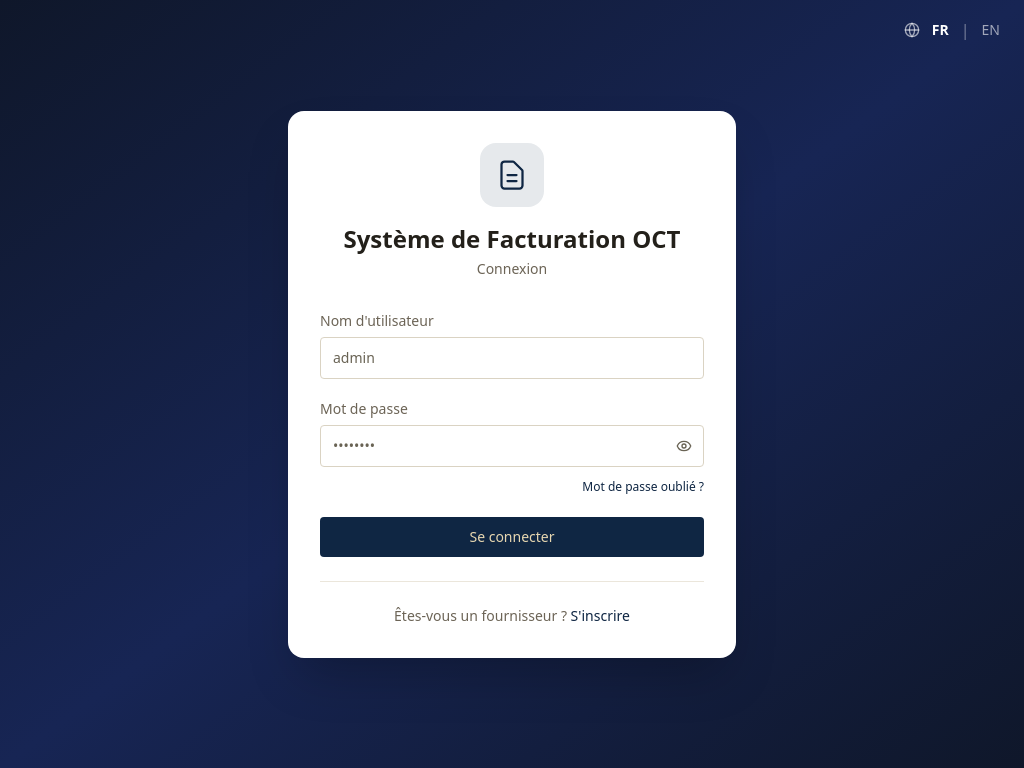
Test case: AUDIT-035 — login error messages › still shows "wrong credentials" on a real 401
Type "aa" into the field labelled "Nom d'utilisateur" at (512, 358), box [320,336,704,378]
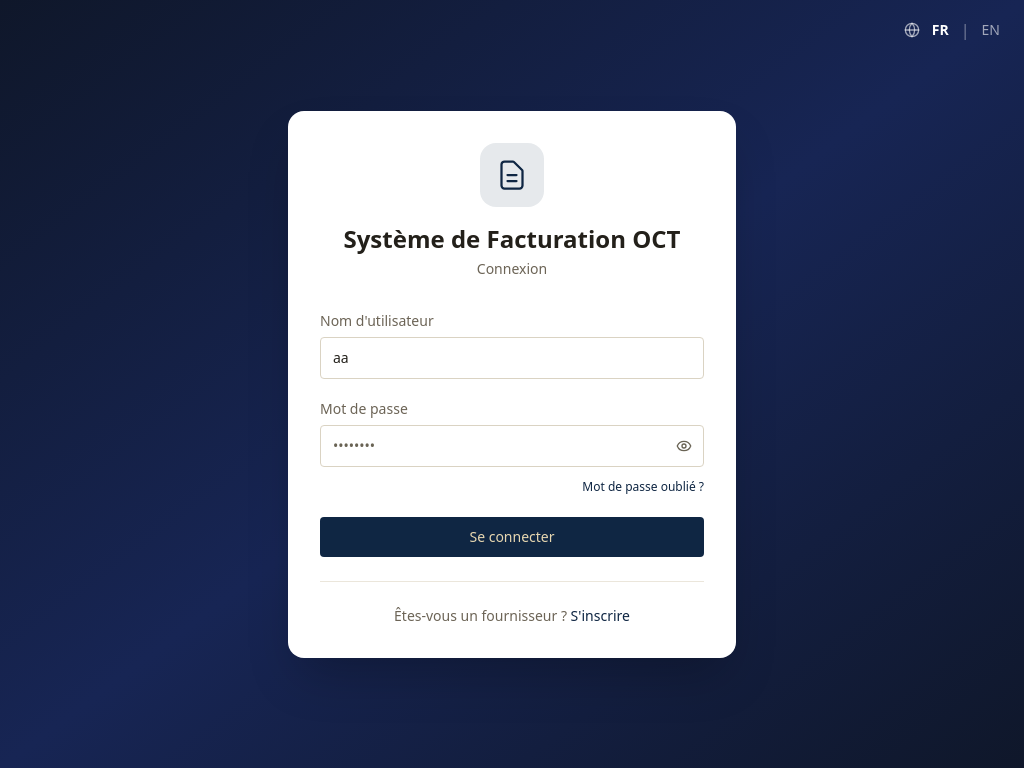
Type "Test1234!" into the password field labelled "Mot de passe" at (512, 446), box [320,424,704,466]
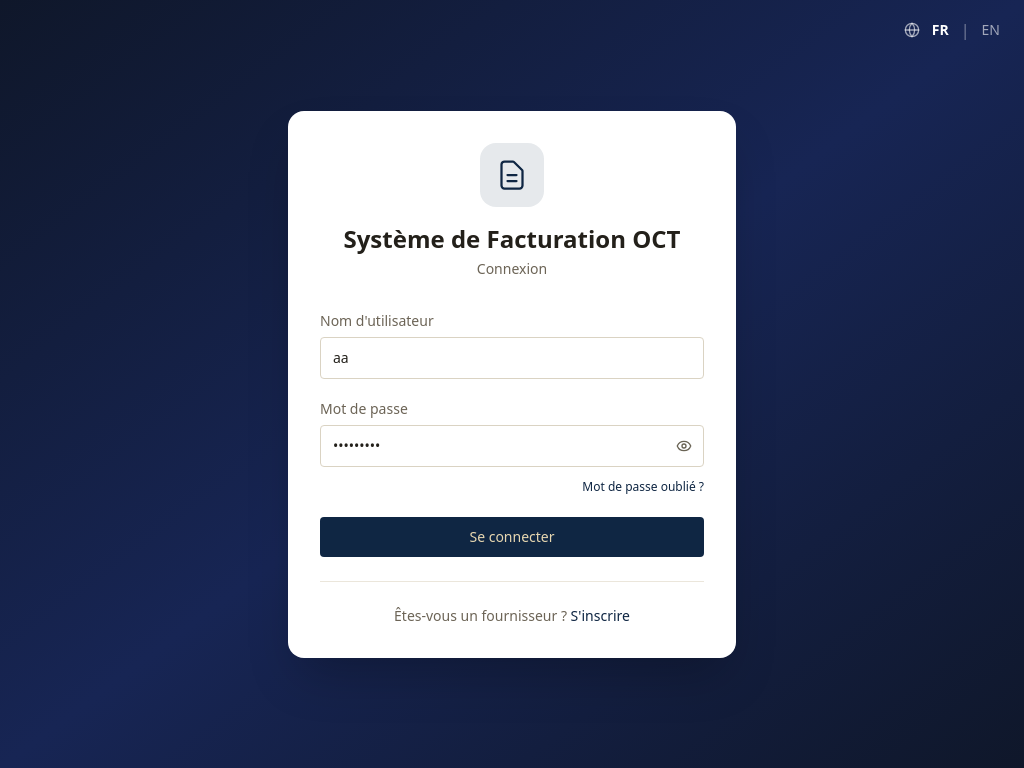
Click the button "Se connecter" at (512, 536), box [320,516,704,556]
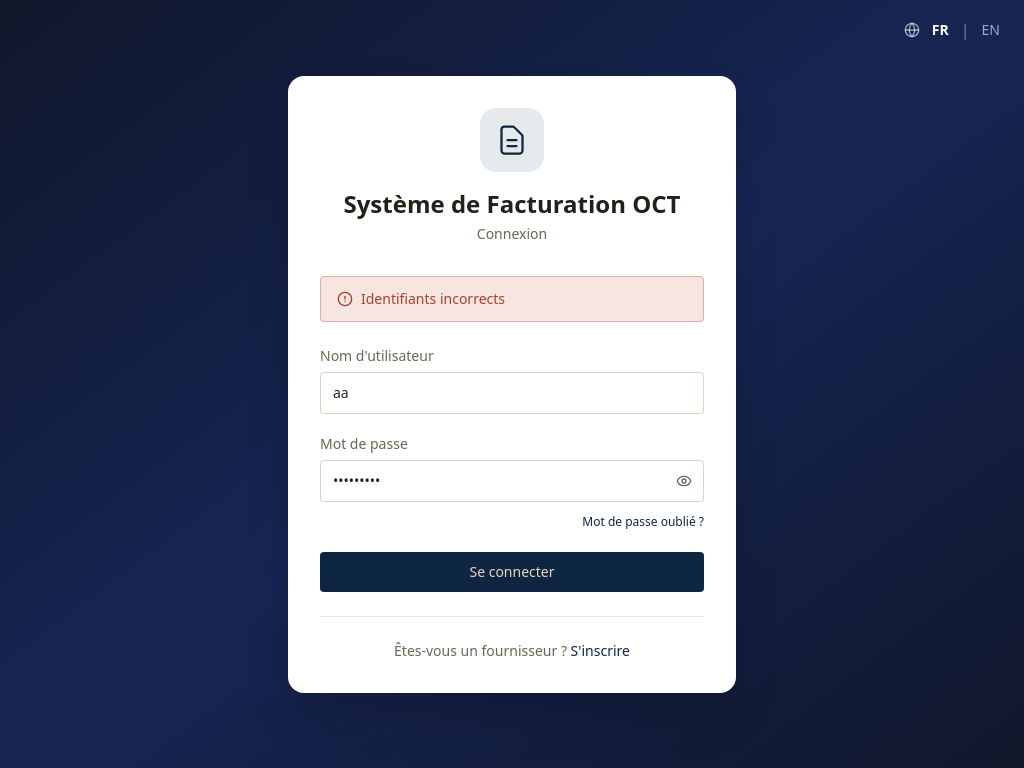
Expected: the text "Identifiants incorrects" is shown, [320,276,704,322]
